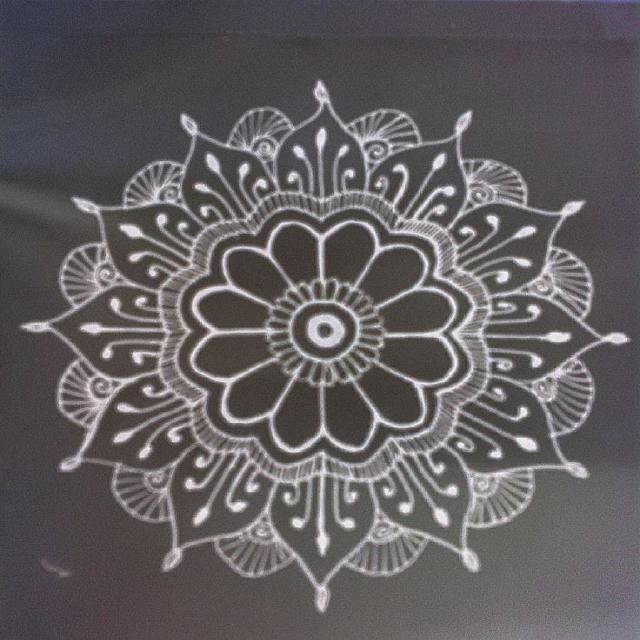rangoli: (20, 79, 634, 610)
